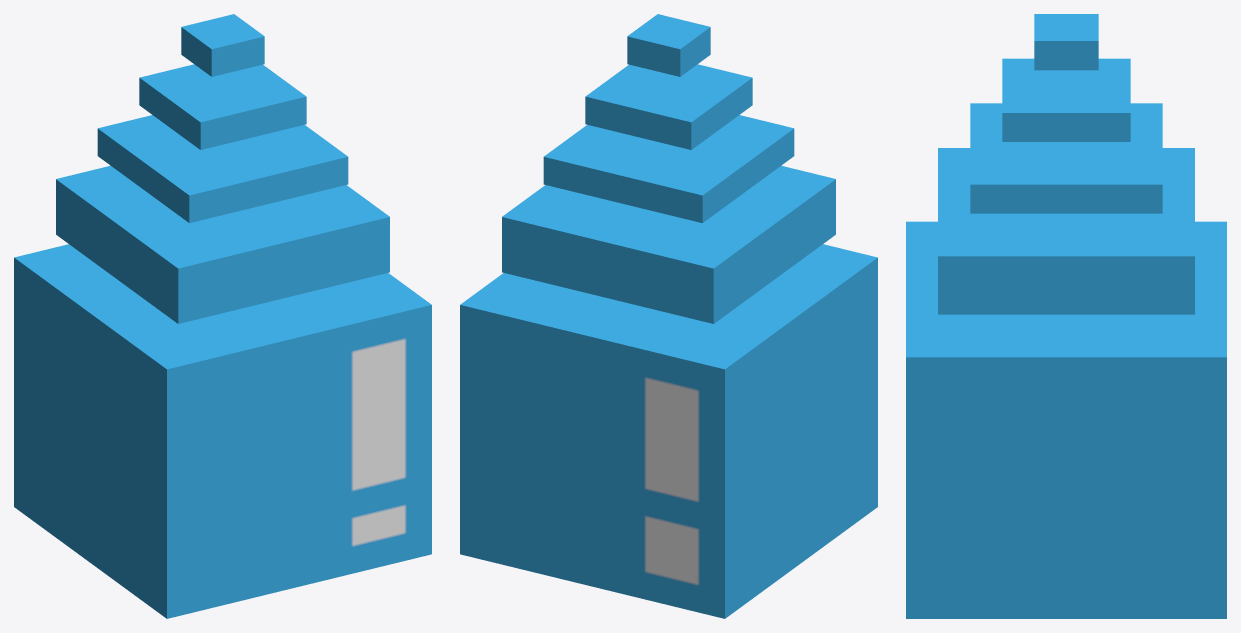
Rendered from aqua3_aquabomb.fbx.
3 renders of one model, left to right at view 1: azimuth 30°, elevation 25°; view 2: azimuth 150°, elevation 25°; view 3: azimuth 270°, elevation 25°, orthographic. The views are drawn at different scales.
Visible parts, largest first — view 1: Sphere; view 2: Sphere; view 3: Sphere.
Part boxes in pixels (box(x1,y1,x2,y2)): Sphere: box(14, 14, 431, 618); Sphere: box(460, 14, 877, 618); Sphere: box(906, 14, 1226, 618).
Size of the model in its own units: 10 by 18 by 10.
